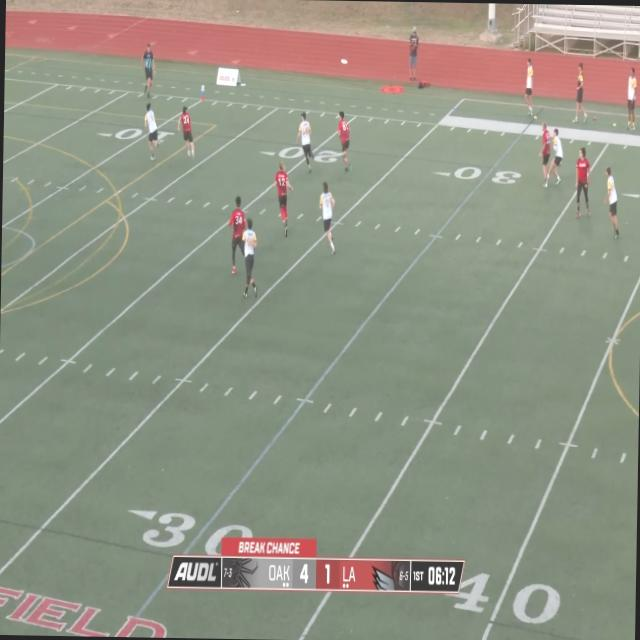Disc: (340, 58, 348, 64), (240, 82, 246, 86)
Player: (224, 197, 248, 275), (314, 185, 336, 258), (573, 145, 594, 219), (272, 162, 292, 230), (239, 223, 257, 298), (603, 165, 620, 238), (543, 128, 563, 187), (296, 112, 316, 170), (334, 110, 352, 171), (180, 104, 198, 158), (140, 42, 156, 100), (143, 104, 158, 158), (538, 121, 550, 180)
